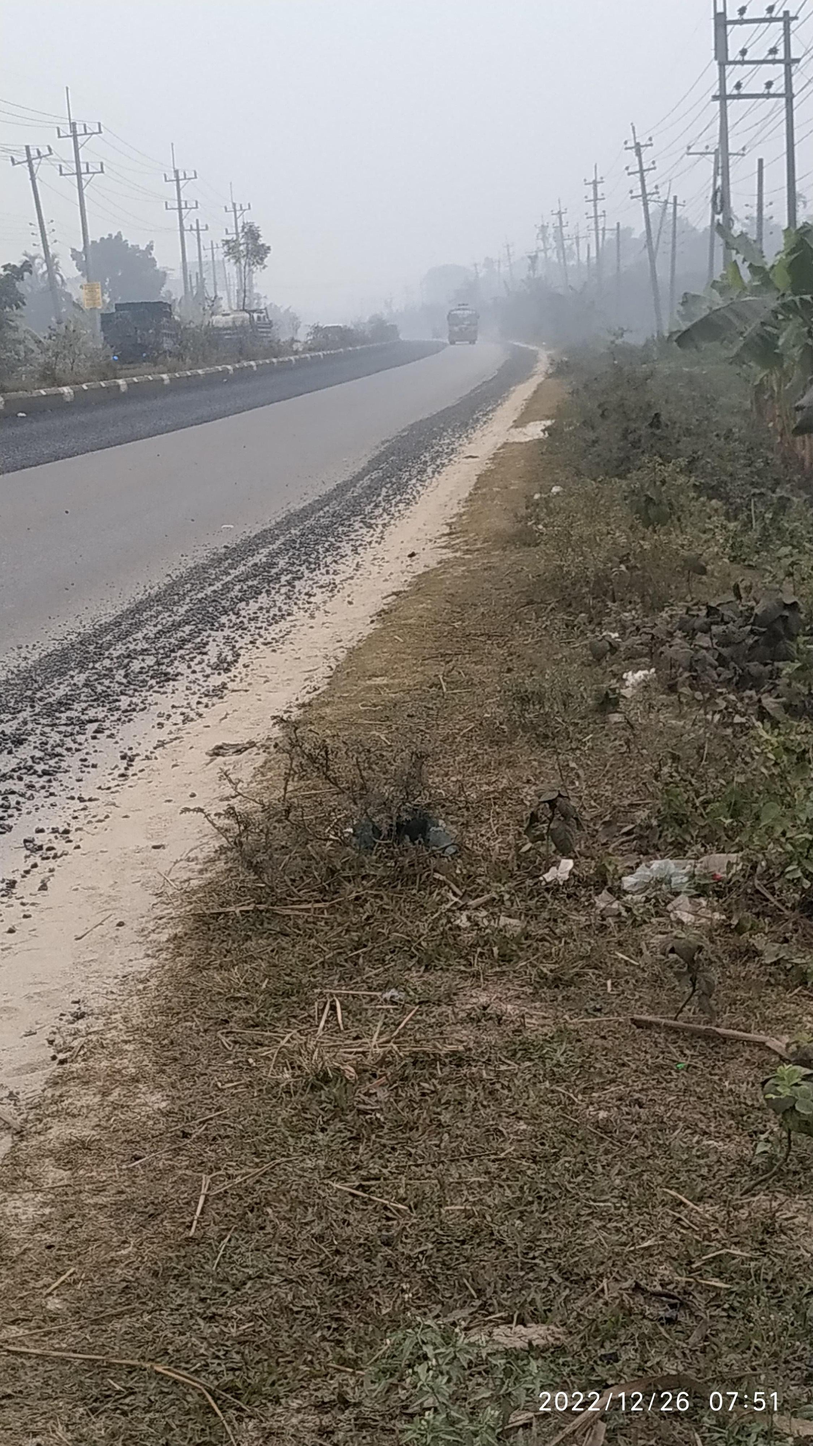Bus: (430, 286, 497, 366)
Truck: (87, 292, 194, 371)
